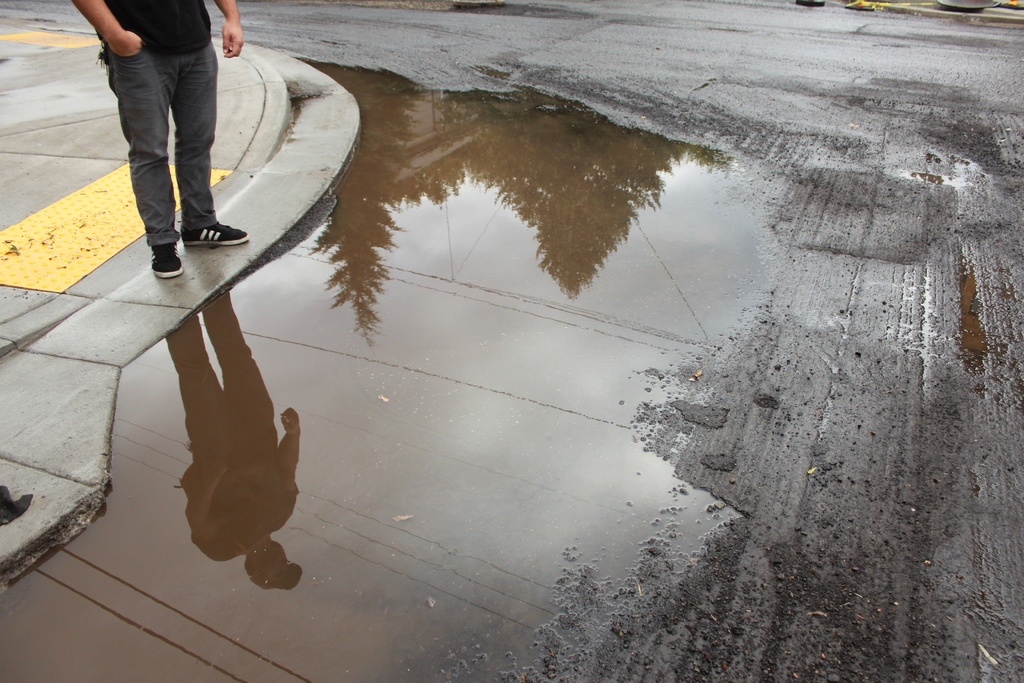Person: (70, 0, 249, 278)
